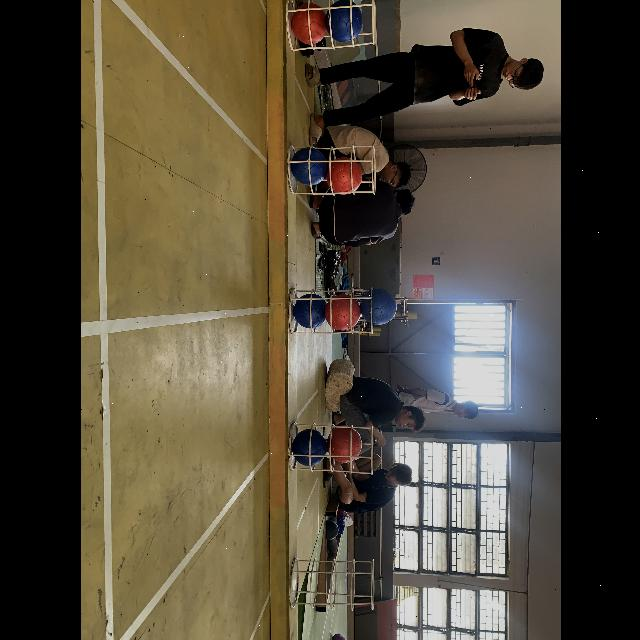B: (324, 1, 362, 44), (290, 428, 326, 466), (360, 288, 396, 326), (290, 150, 324, 187), (290, 294, 326, 328)
R: (286, 2, 328, 42), (324, 157, 362, 193), (324, 290, 360, 328), (326, 426, 360, 464)
